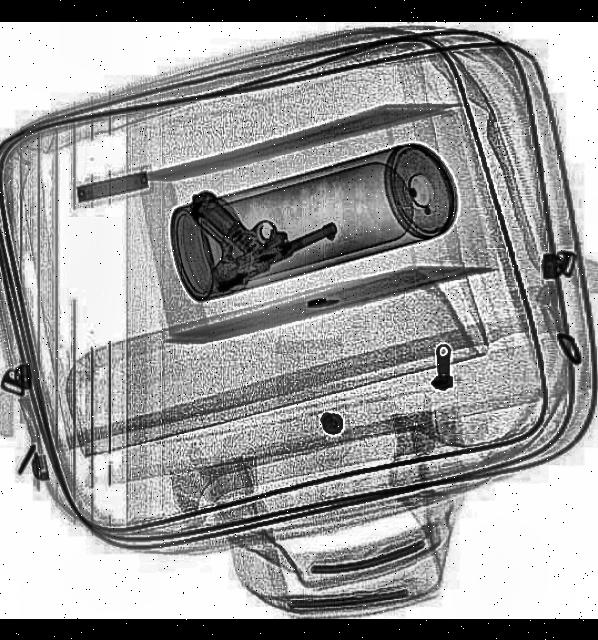Gun: (177, 142, 343, 296)
